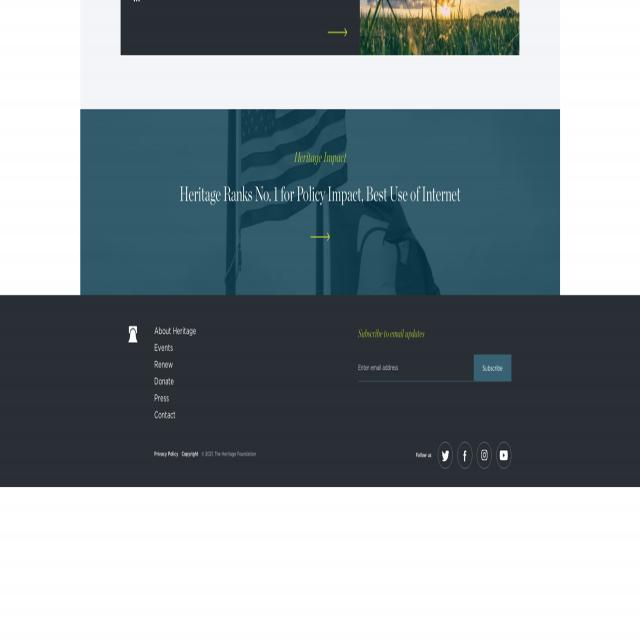button: (82, 112, 560, 295), (121, 0, 519, 56), (474, 354, 512, 382), (122, 316, 144, 358), (496, 444, 512, 469), (438, 442, 452, 468), (458, 442, 472, 468), (477, 444, 491, 469)
field: (358, 354, 474, 382)
